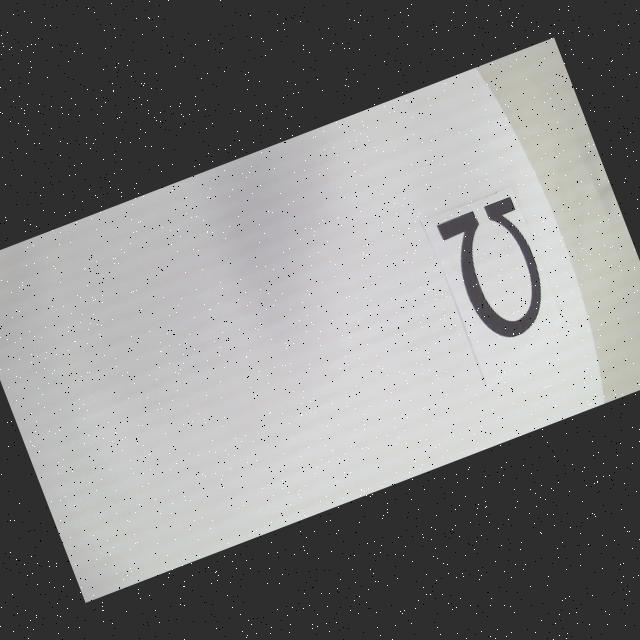OMEGA: (436, 195, 559, 348)
